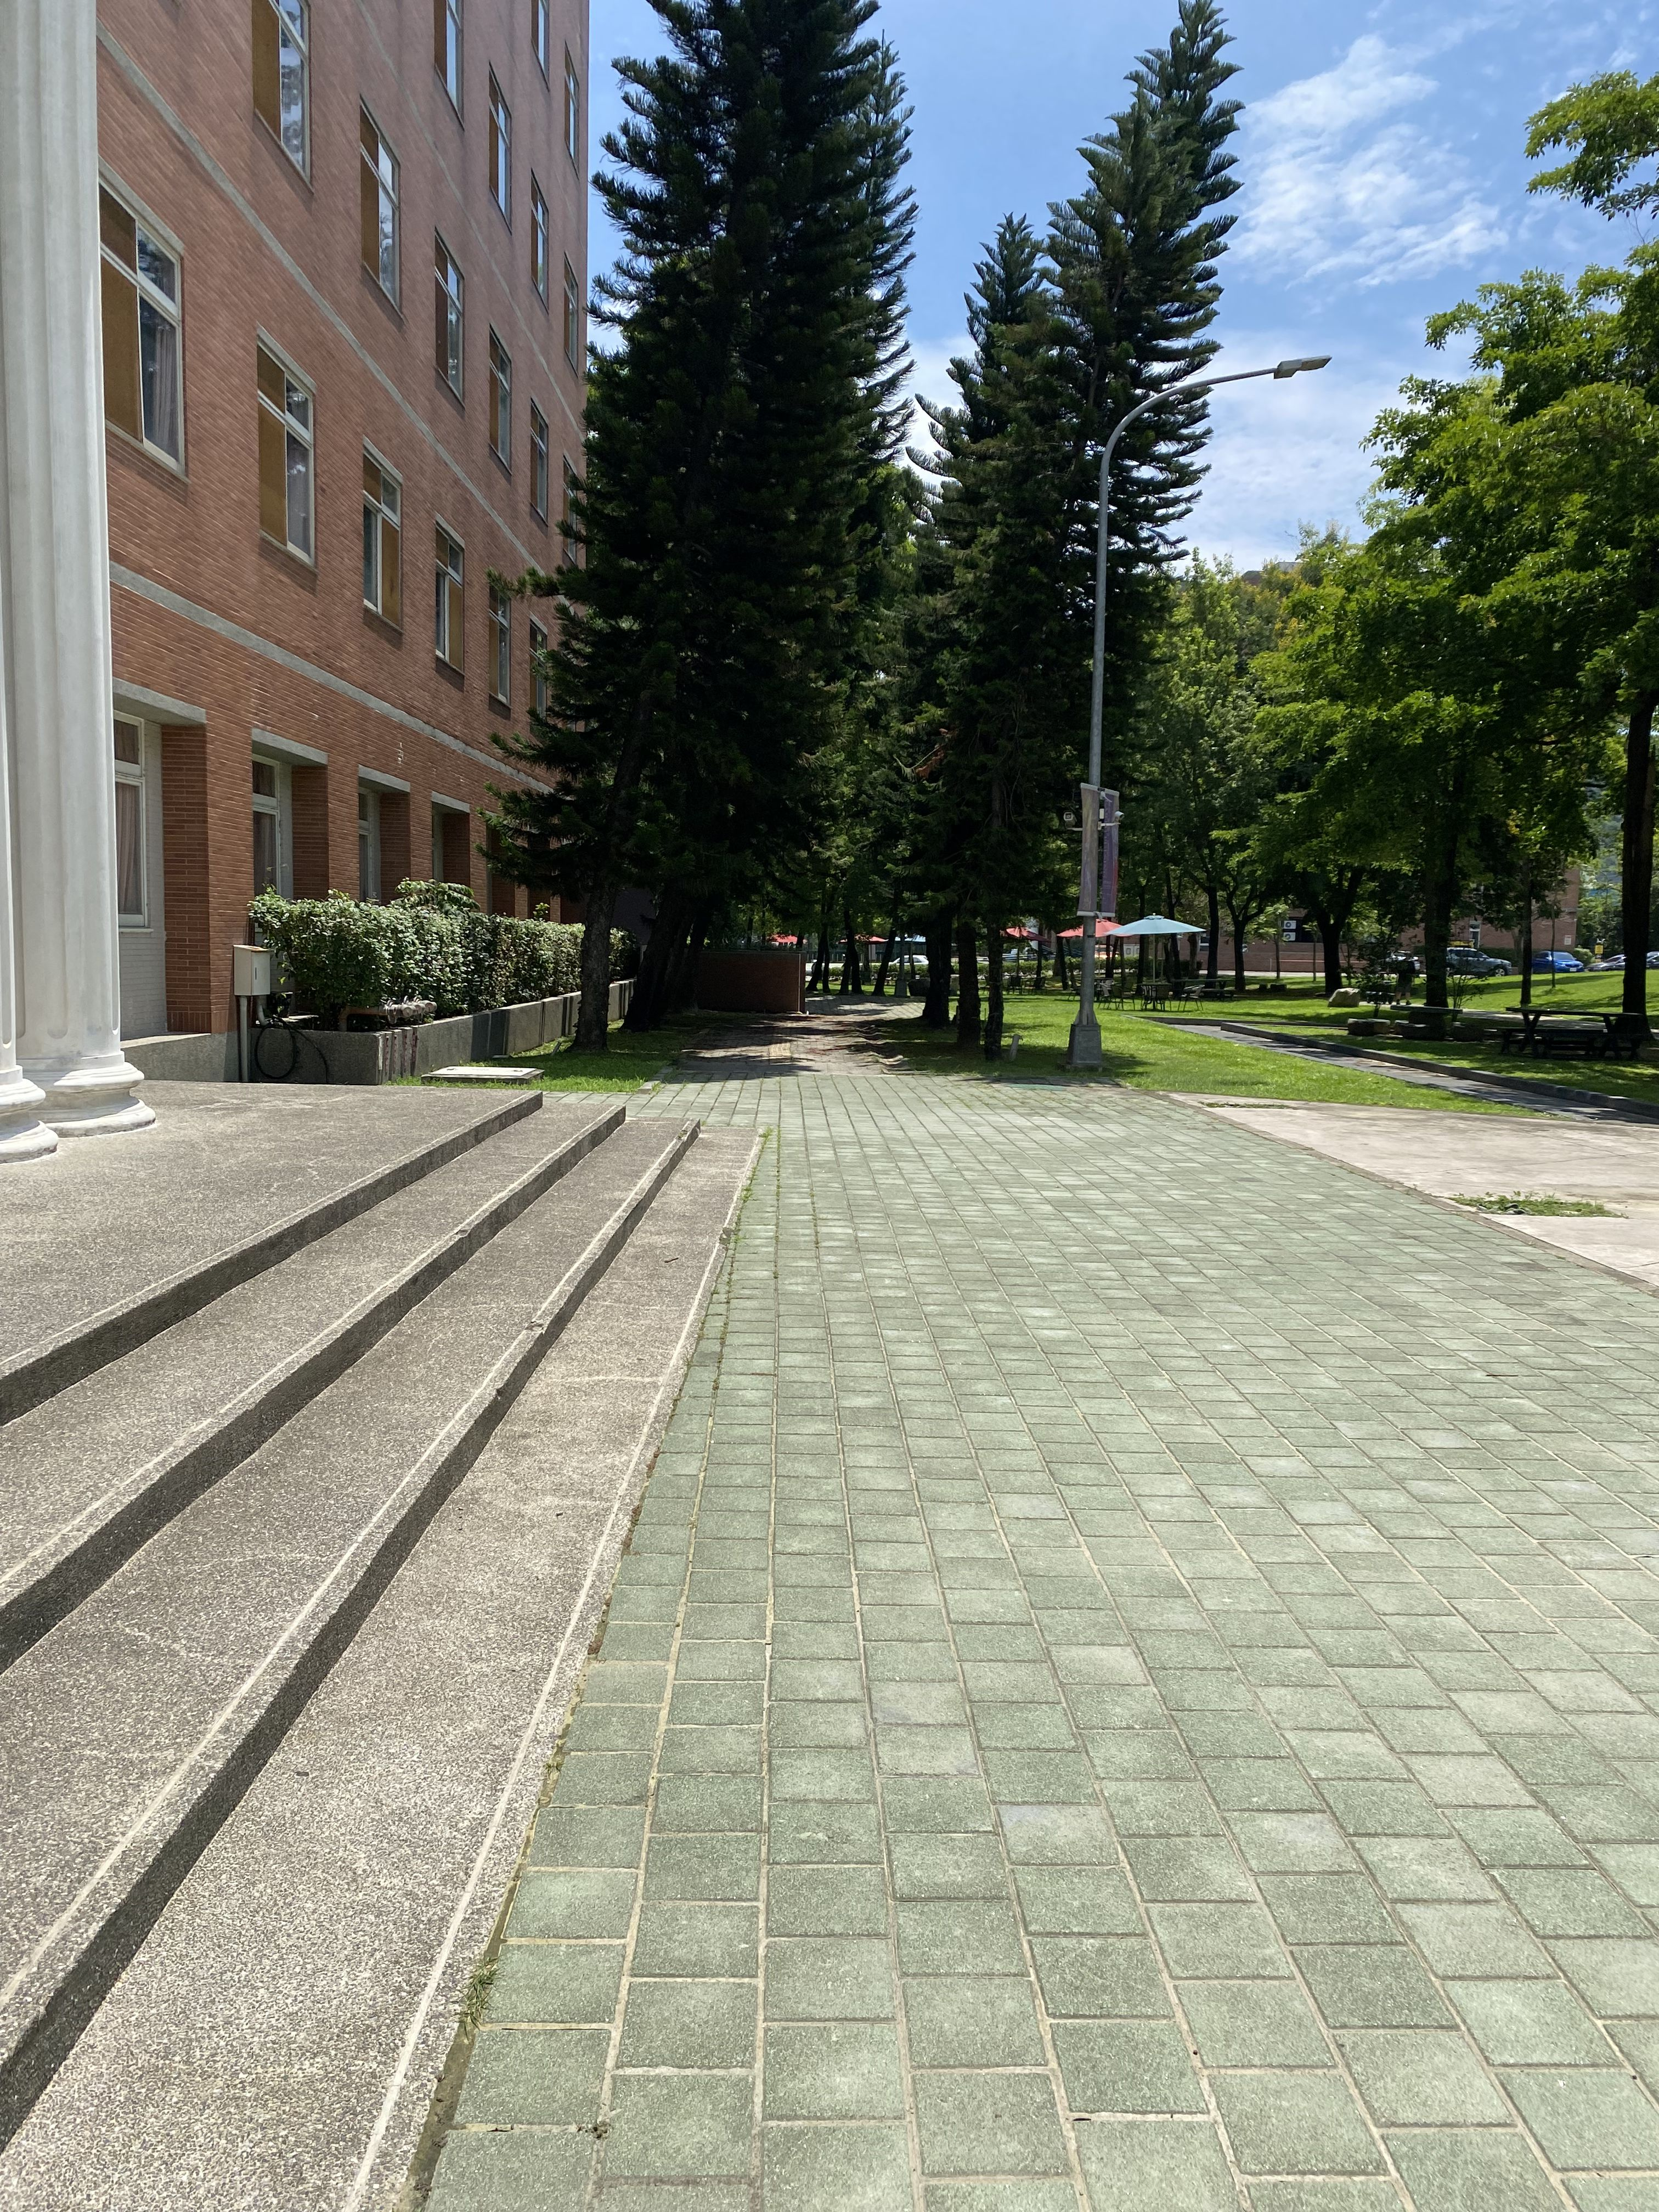sidewalk: (495, 937, 1659, 2212)
